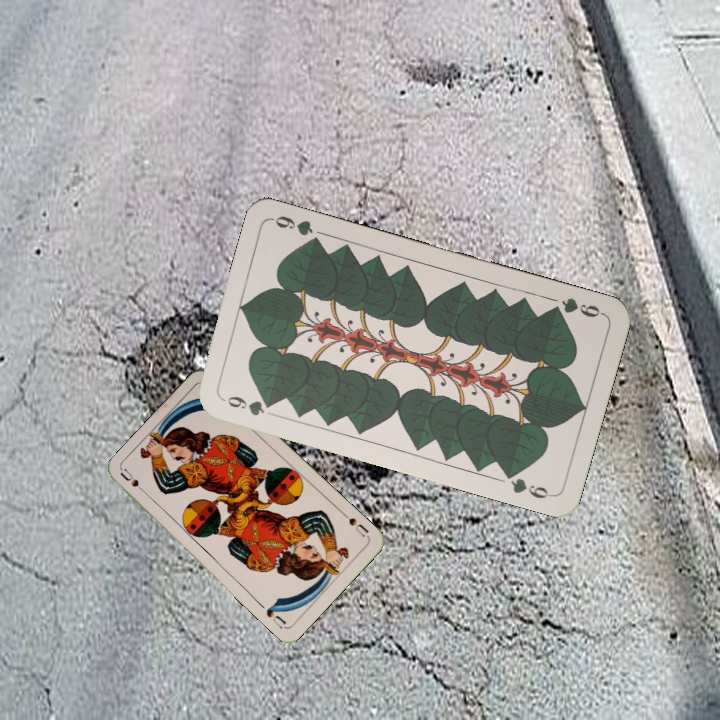G9: (546, 293, 606, 320), (218, 392, 277, 419)
SU: (117, 465, 151, 499), (338, 509, 372, 540)
